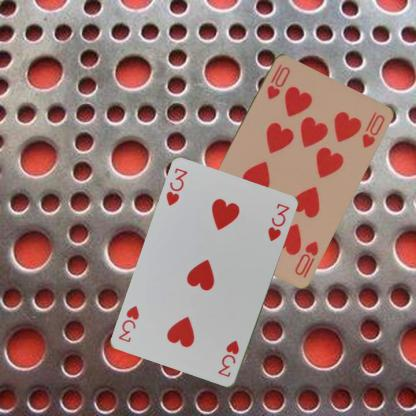10h: (264, 61, 291, 100), (292, 238, 319, 276)
3h: (163, 166, 189, 207), (215, 338, 241, 378)
